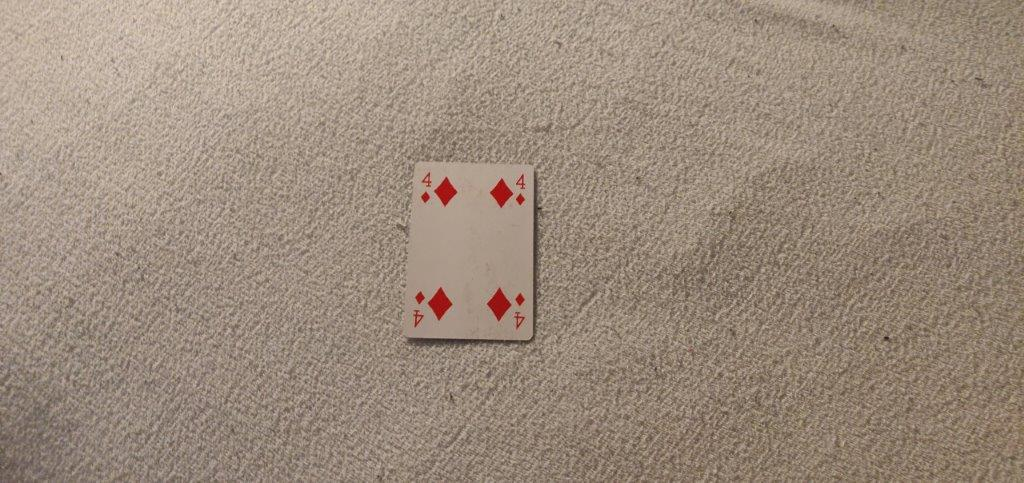4D: (419, 170, 434, 205), (514, 173, 527, 207)
